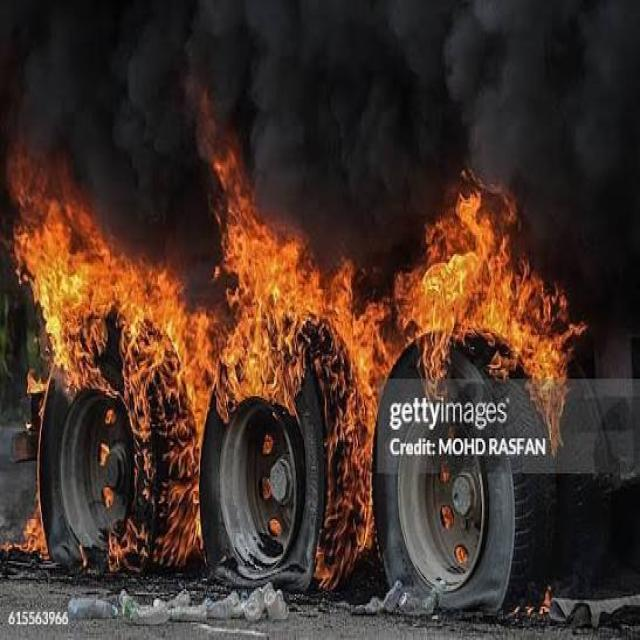fire: (467, 254, 585, 458), (29, 300, 215, 406), (2, 205, 187, 305), (214, 197, 354, 309), (214, 307, 305, 422), (335, 333, 373, 579), (190, 73, 256, 205), (425, 171, 515, 266), (159, 405, 209, 566), (411, 264, 466, 399), (8, 137, 86, 206), (321, 334, 335, 591), (374, 326, 412, 416), (24, 495, 49, 560), (108, 519, 136, 570), (354, 295, 390, 332), (305, 309, 354, 334)
